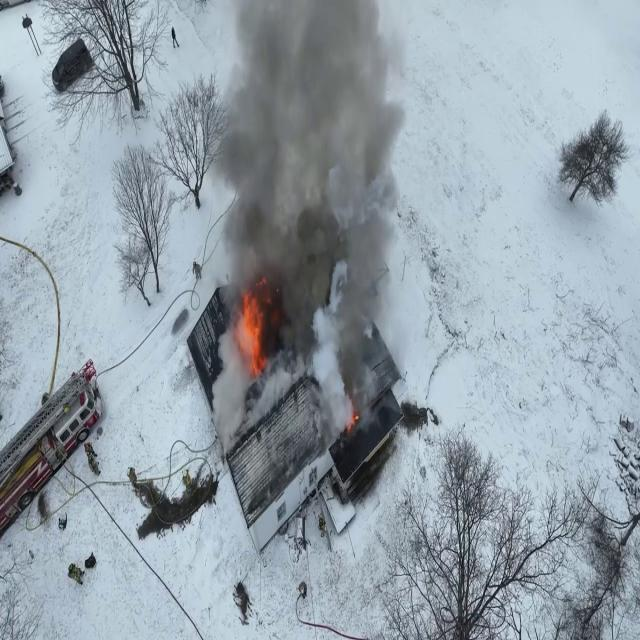Fire: (229, 284, 271, 383)
Smoke: (199, 1, 437, 300), (294, 250, 396, 436)
